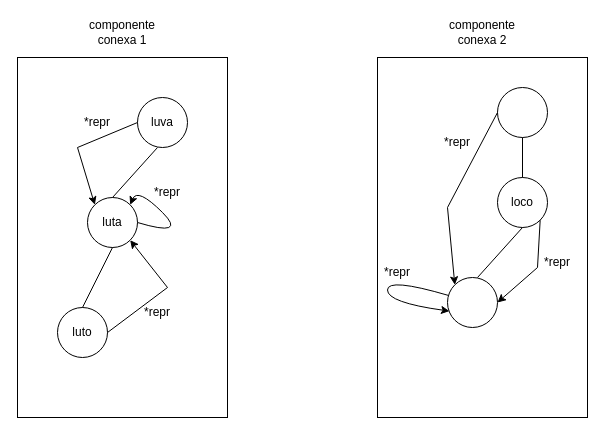
This 605x435 diagram has some shape labels left out. Each missing label, with the centre of its shape:
"coco" belongs at pixel 522 112.
"loto" belongs at pixel 472 302.
